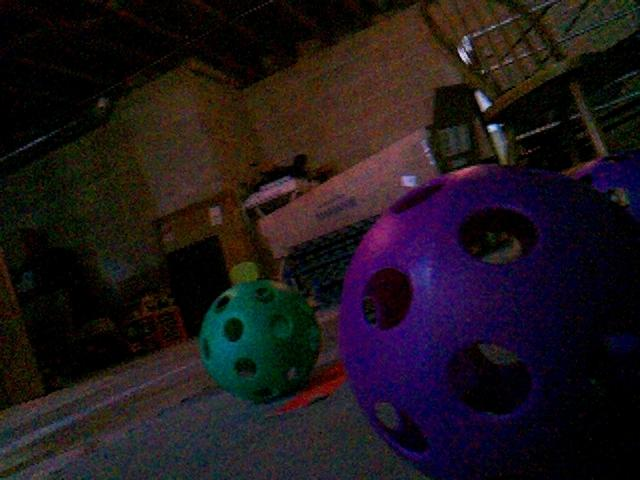Green: (195, 276, 325, 403)
Purple: (335, 164, 640, 478), (568, 152, 640, 250)
